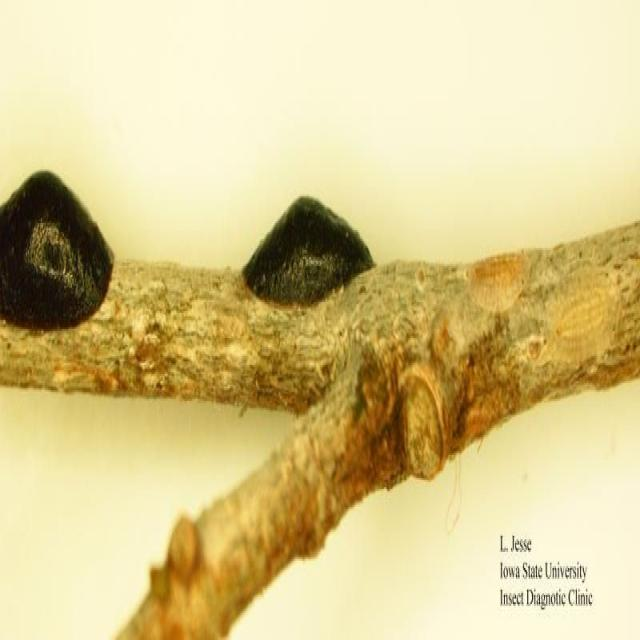Black Scale: (0, 173, 113, 331), (242, 196, 374, 304)
